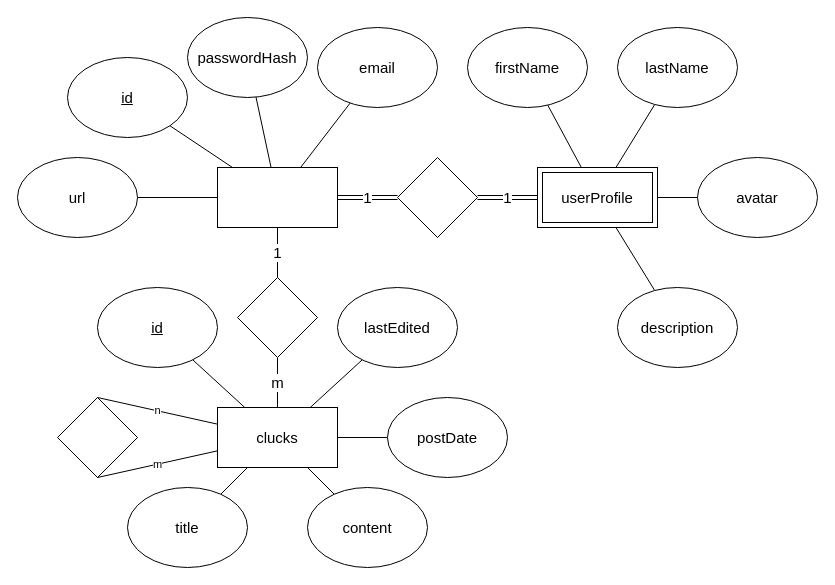
Some shapes in this 835 by 585 pixel diagram are drawn without their labels. The shapes that lost their labels are listed below. From the top down, each one's centre as x and y in pixels, then its label:
(x=277, y=197): users
(x=437, y=197): have
(x=277, y=317): creates
(x=97, y=437): replies
